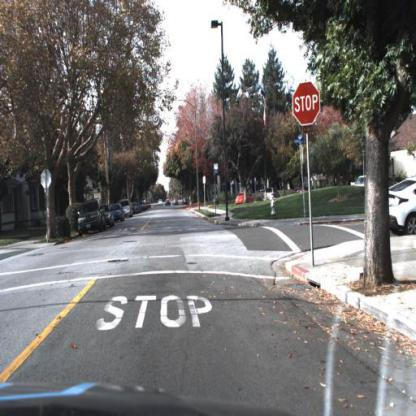car: (386, 177, 416, 243), (77, 197, 107, 239), (353, 174, 375, 192), (120, 197, 136, 219), (236, 189, 256, 206), (100, 204, 115, 226), (264, 186, 280, 204), (112, 202, 126, 222), (237, 192, 254, 207), (113, 202, 125, 223), (104, 204, 114, 229), (123, 199, 133, 220), (356, 174, 369, 187), (265, 190, 279, 202), (297, 187, 308, 195)
